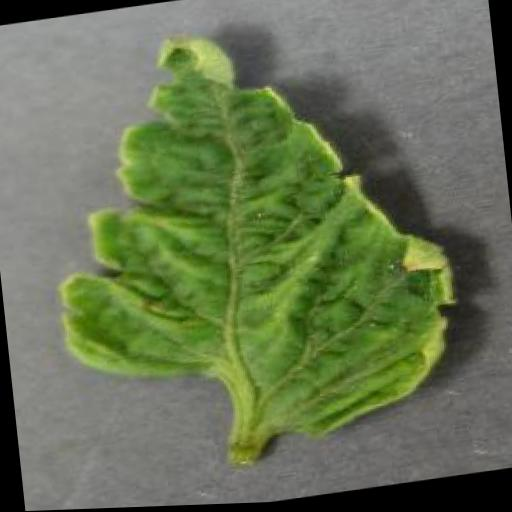Yellow Leaf Curl Virus: (32, 2, 468, 468)
